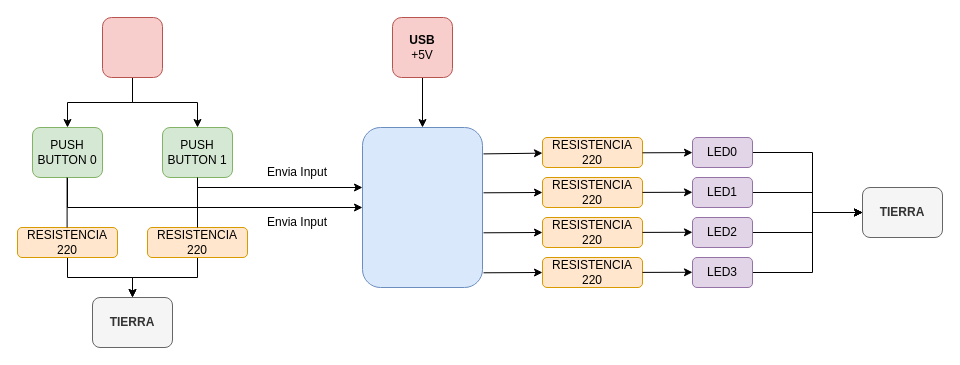
The diagram is 960 pixels wide and 365 high, and some of its shapes have lost their labels. Here are the shapes that lost their labels. From the top down, the centre of each, then its label:
At point 132,47: "TERMINAL POWER".
At point 422,207: "MCU ATMEGA328P".
